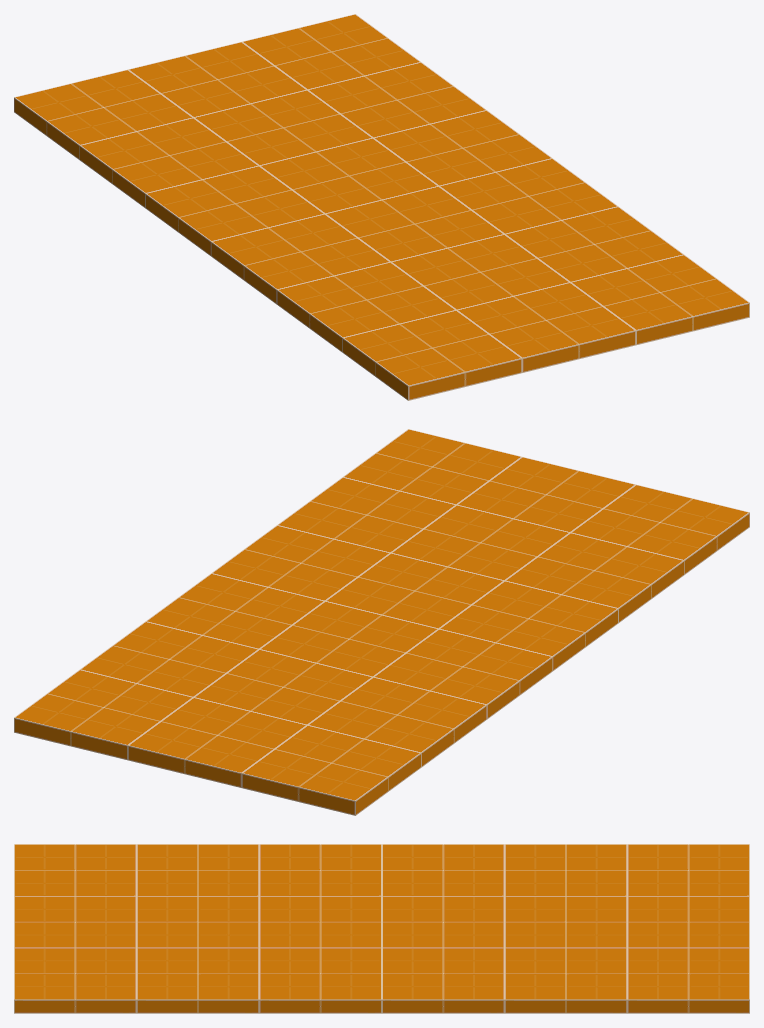
The model's file is Plate8_3x6.obj.
3 views of the same model, one above another, from view 1: azimuth 30°, elevation 25°; view 2: azimuth 150°, elevation 25°; view 3: azimuth 270°, elevation 25° (orthographic). The views are drawn at different scales.
Visible parts, largest first — view 1: Plate8_3x6_Cube.384; view 2: Plate8_3x6_Cube.384; view 3: Plate8_3x6_Cube.384.
Boxes of the visible parts, x1,y1,x2,y2 form: Plate8_3x6_Cube.384: (14, 14, 749, 400); Plate8_3x6_Cube.384: (14, 429, 749, 815); Plate8_3x6_Cube.384: (14, 844, 749, 1013).
Bounding box in the file's own units: 3 × 0.125 × 6.
1 material, 1 textured.
